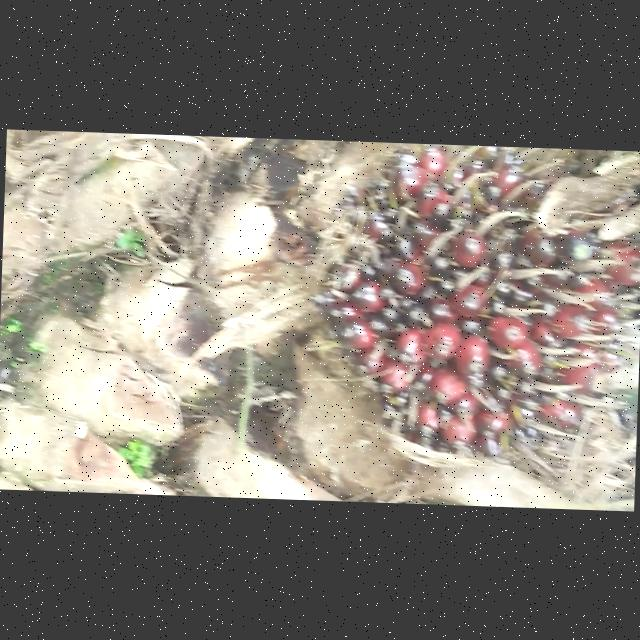Ripe: (326, 148, 640, 458)
